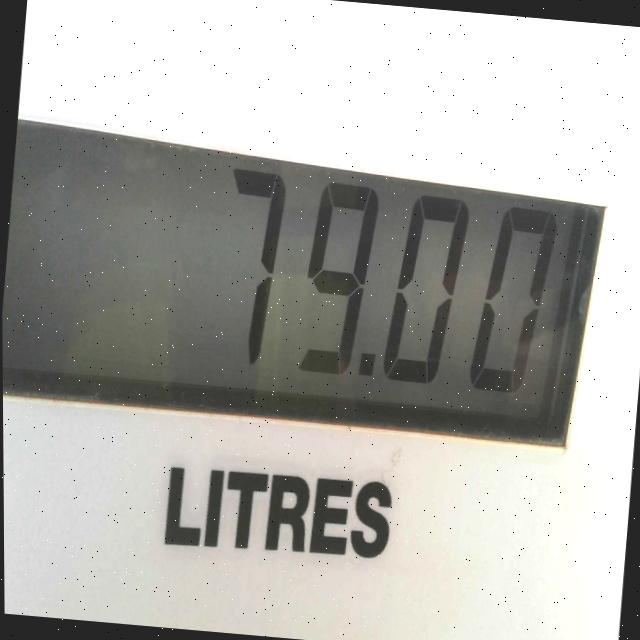.: (349, 339, 380, 400)
0: (462, 198, 562, 420), (380, 190, 473, 396)
7: (209, 154, 298, 373)
9: (283, 170, 377, 402)
